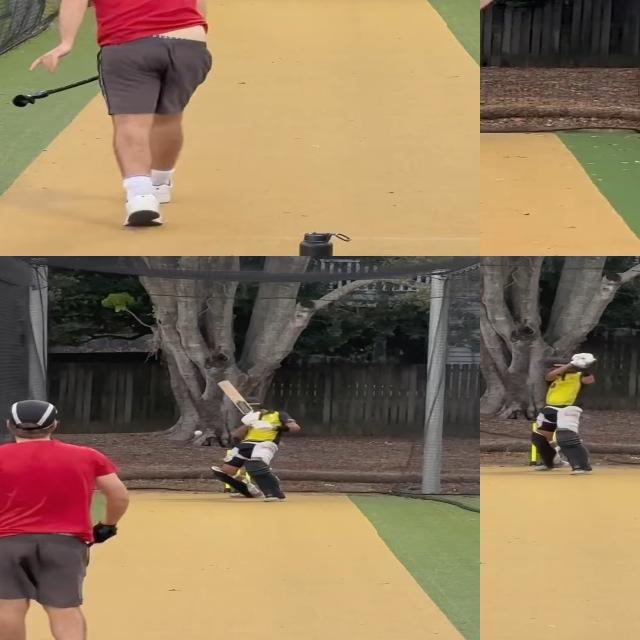Cricket ball: (194, 429, 203, 436), (480, 357, 483, 364)
